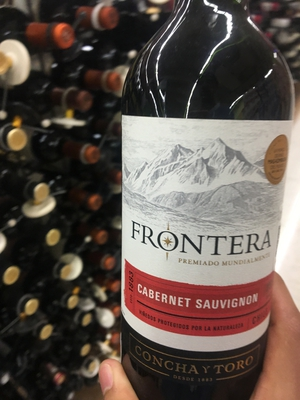frontera cabernet sauvignon: (98, 28, 300, 382)
